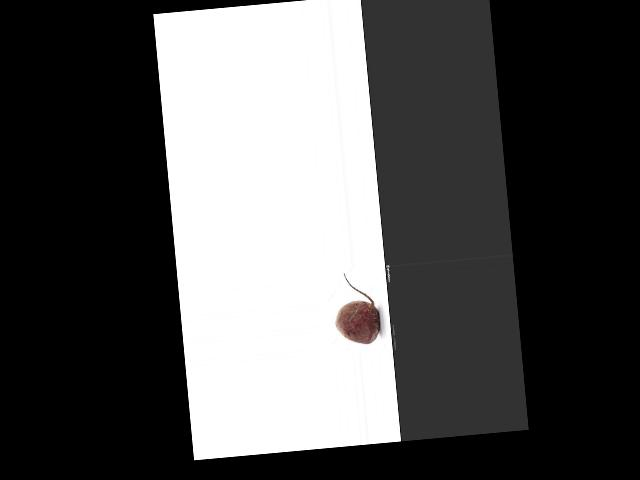beet: (331, 270, 381, 347)
